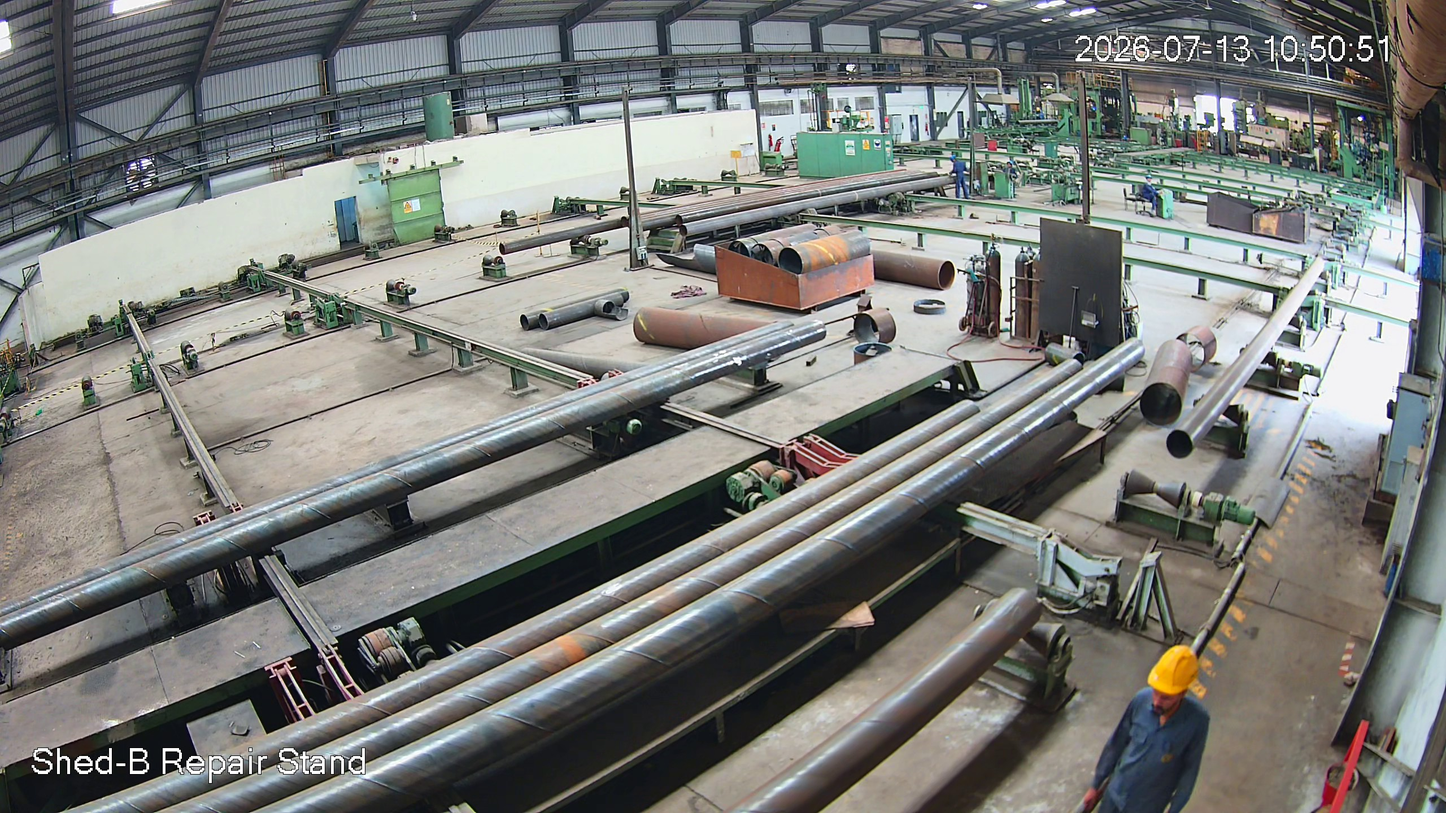Helmet: (1135, 639, 1204, 746)
Person: (1084, 652, 1234, 813)
